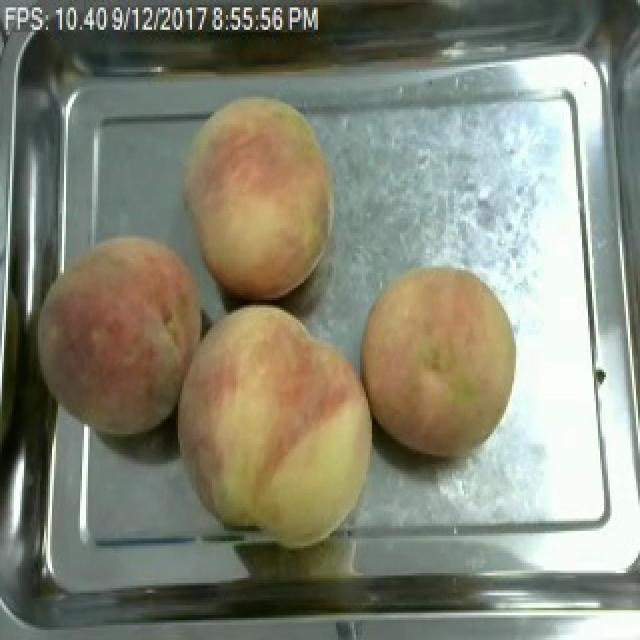Fruit: (166, 295, 384, 553), (20, 223, 220, 444), (172, 84, 346, 305), (352, 258, 526, 461)
